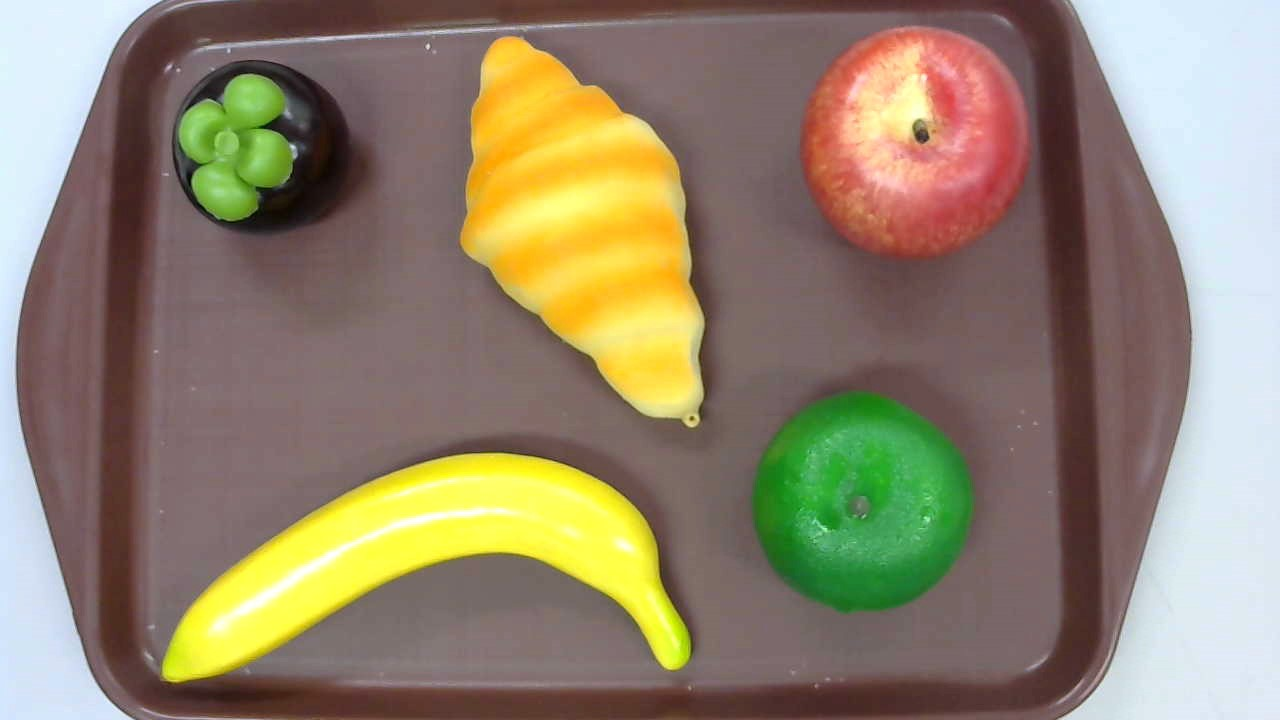banana: (160, 453, 692, 682)
croissant: (458, 36, 706, 427)
green orange: (751, 391, 973, 616)
mangosteen: (172, 60, 350, 234)
red apple: (800, 26, 1029, 259)
